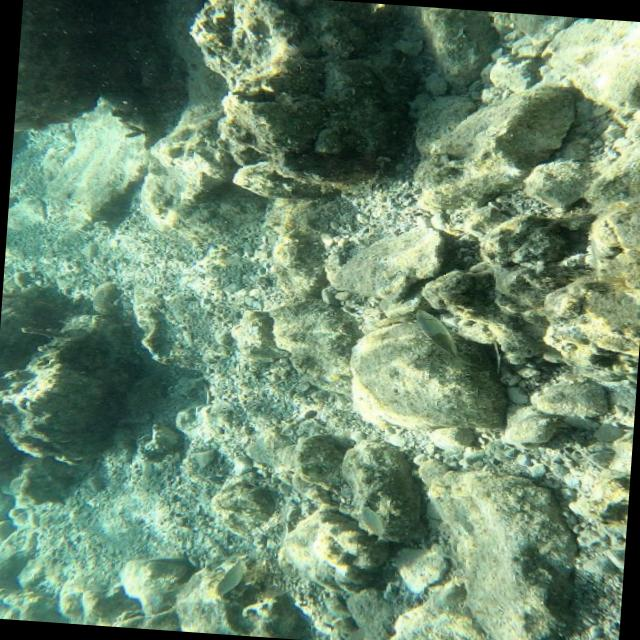Sokar Baligi: (399, 301, 496, 377)
